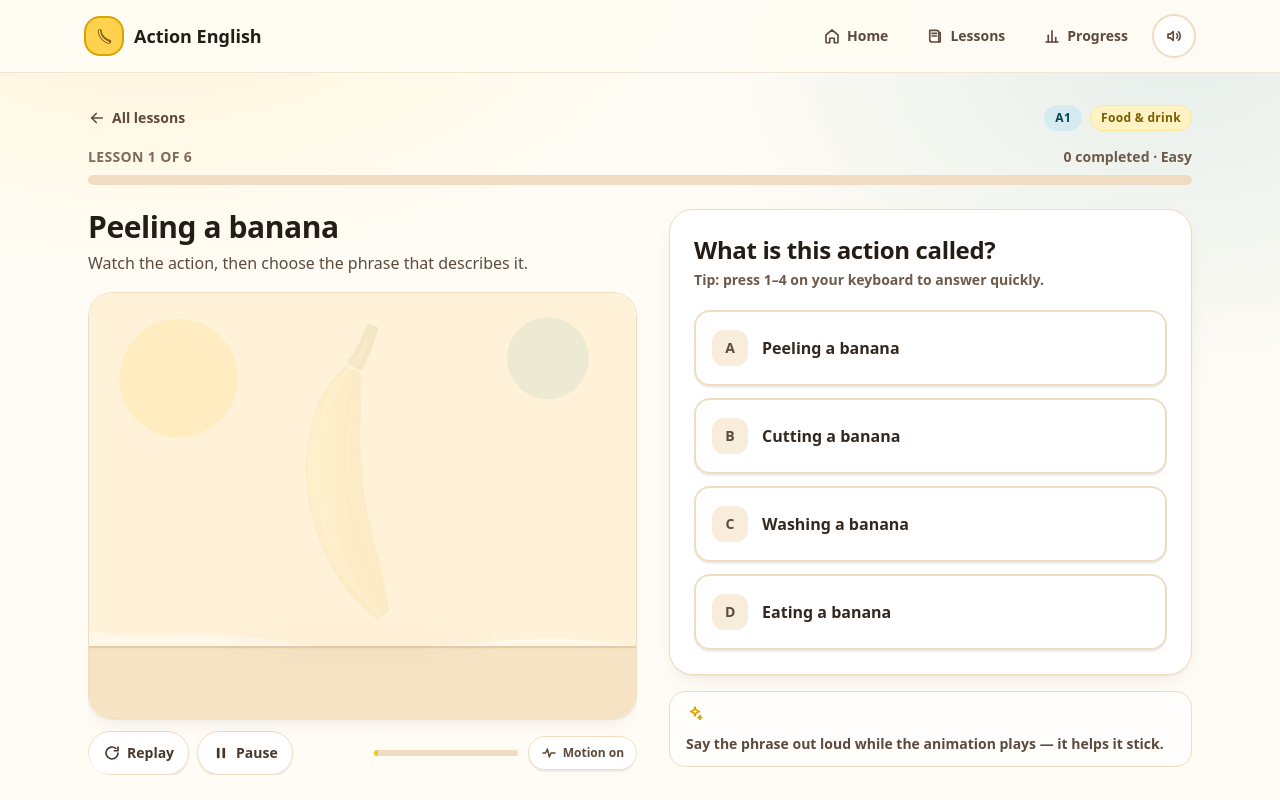
Test: lesson player › offers a pronunciation button after answering
Click the button "D Eating a banana" at (730, 612), box [694, 574, 1167, 650]
(page scrolled)
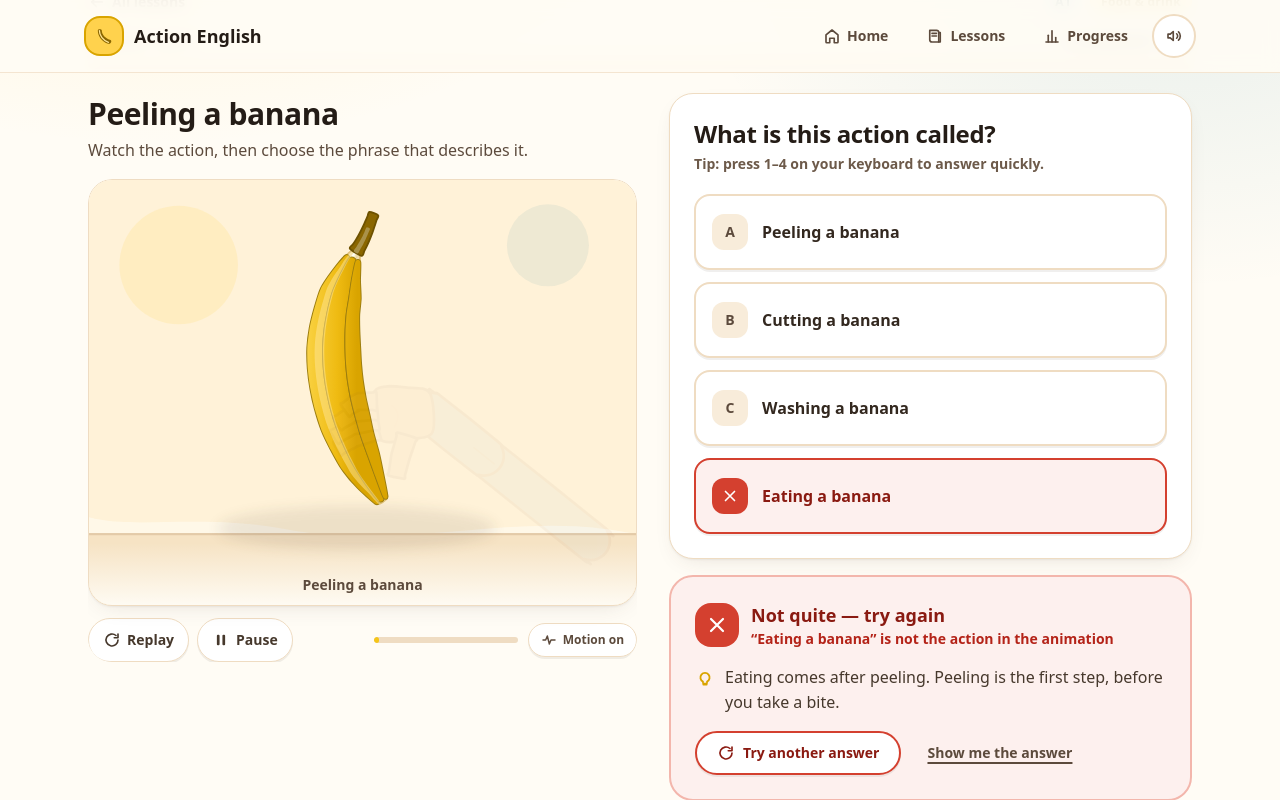
Click the button "Try another answer" at (798, 753), box [695, 731, 902, 775]
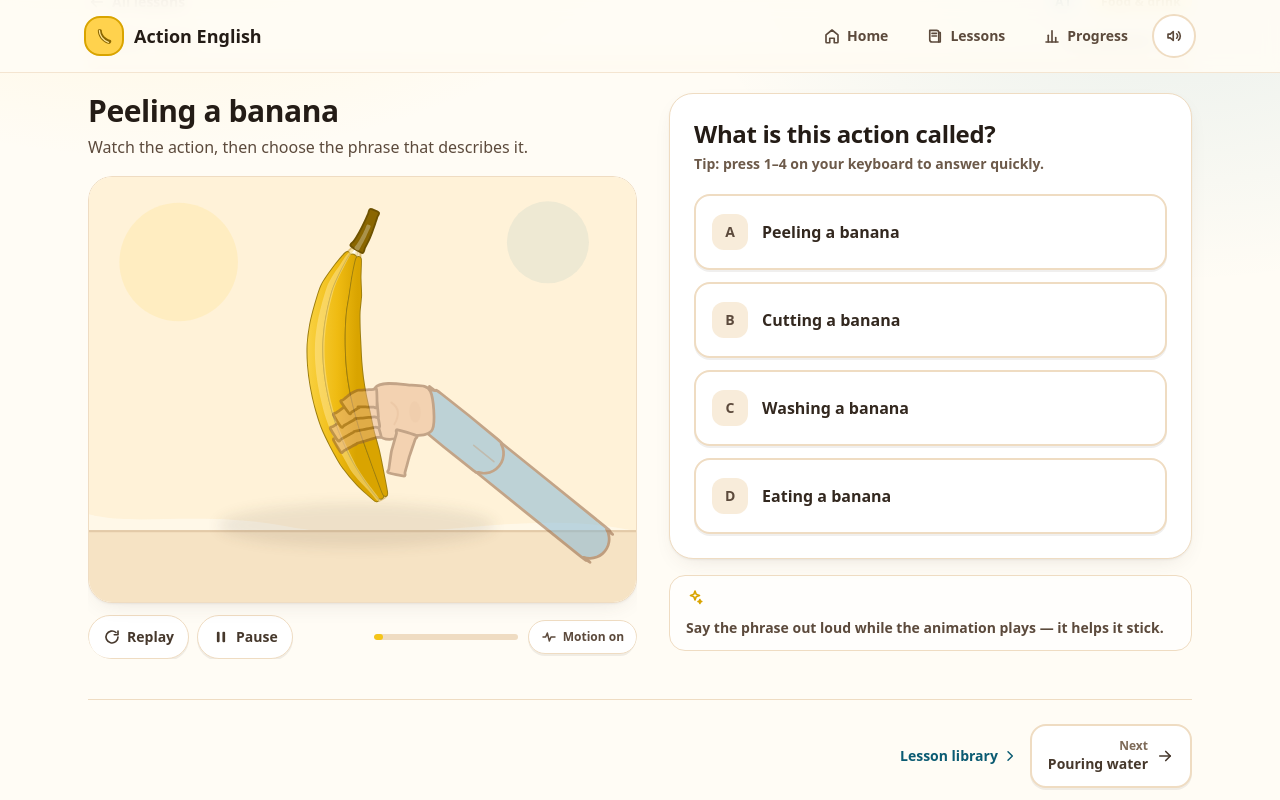
Click the button "A Peeling a banana" at (730, 232), box [694, 194, 1167, 270]
(page scrolled)
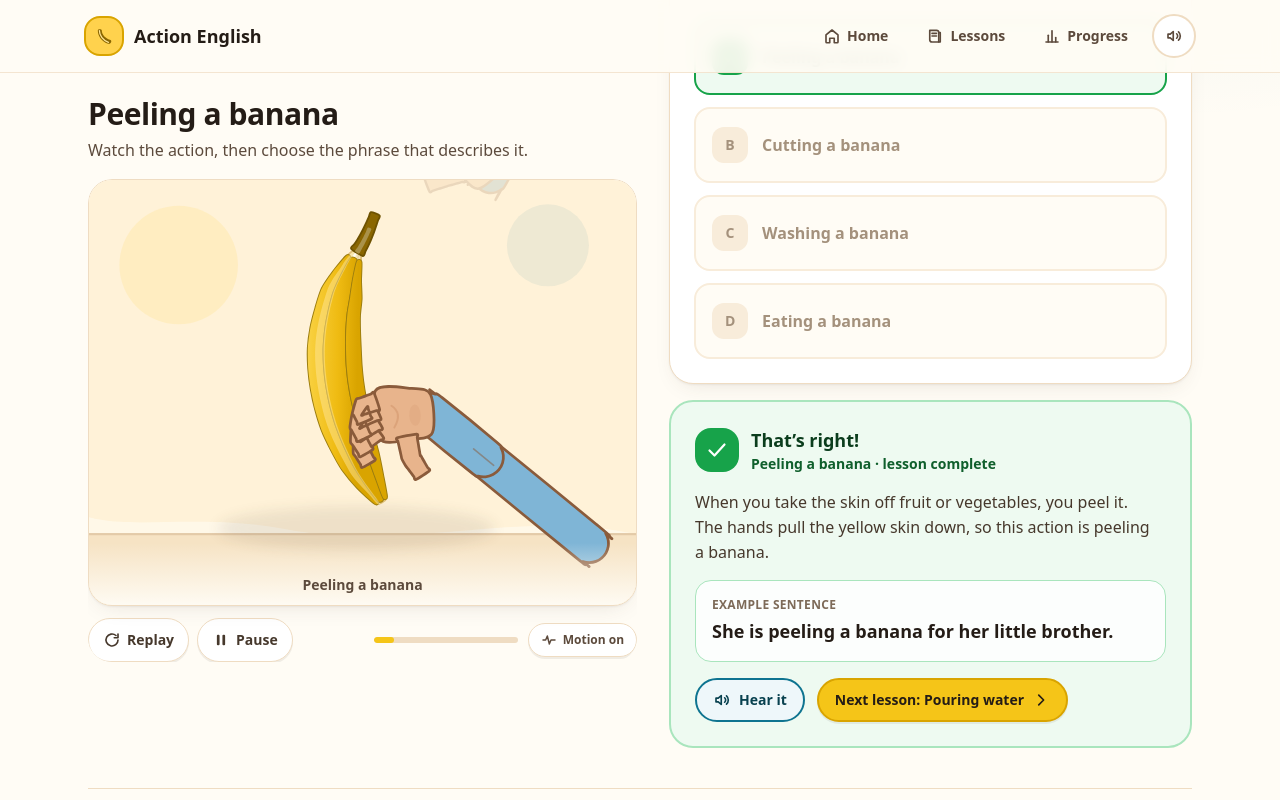
Expected: the button with aria-label "hear the phrase" is shown, [695, 678, 805, 722]
